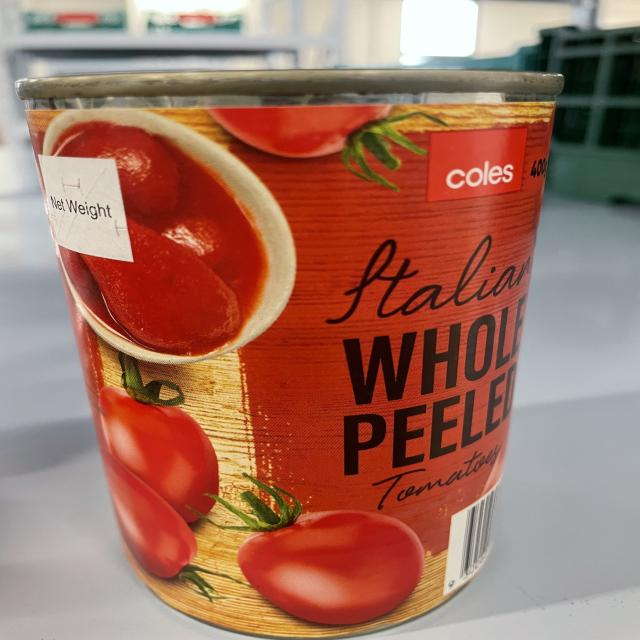object_name: (30, 81, 548, 608)
